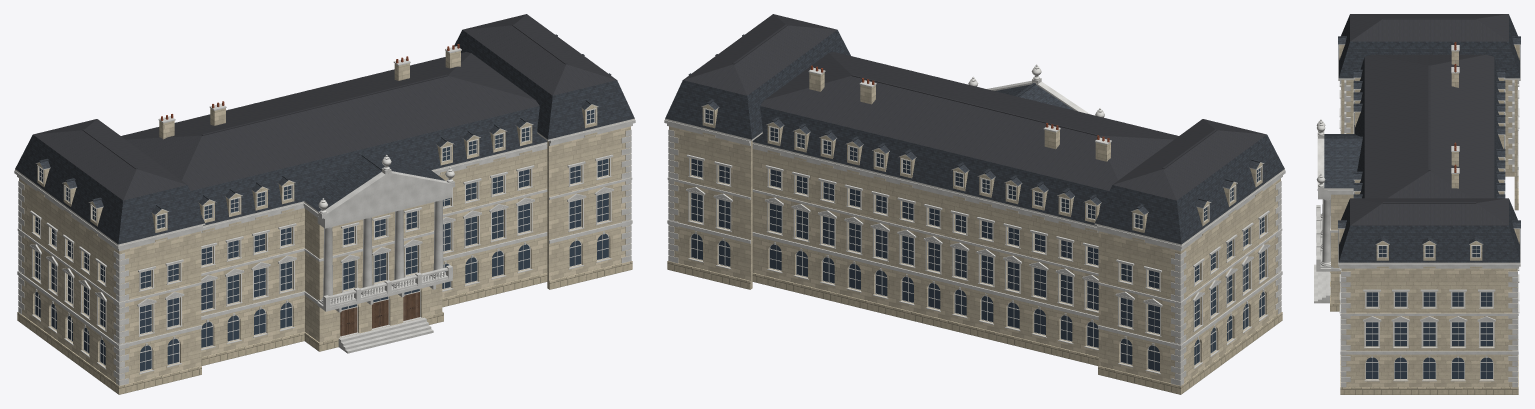
The model's file is baroque-palace.glb.
3 renders of one model, left to right at view 1: azimuth 30°, elevation 25°; view 2: azimuth 150°, elevation 25°; view 3: azimuth 270°, elevation 25°, orthographic. The views are drawn at different scales.
Visible parts, largest first — view 1: Baroque_Palace; view 2: Baroque_Palace; view 3: Baroque_Palace.
Part boxes in pixels (bbox=[...]): Baroque_Palace: bbox=[14, 14, 635, 394]; Baroque_Palace: bbox=[664, 14, 1285, 394]; Baroque_Palace: bbox=[1314, 14, 1520, 394].
Bounding box in the file's own units: 50.62 × 19.04 × 19.93.
Materials: 13 (7 with a texture image).
